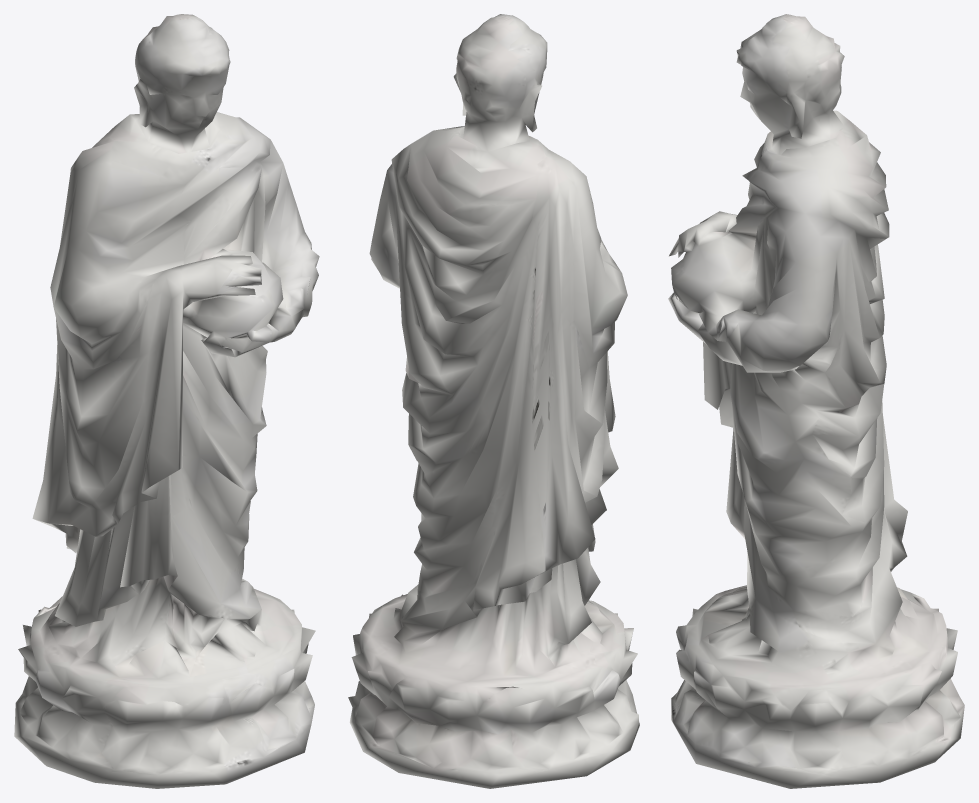
The model's file is far.glb.
The picture shows the model from 3 angles, left to right: view 1: azimuth 30°, elevation 25°; view 2: azimuth 150°, elevation 25°; view 3: azimuth 270°, elevation 25°; orthographic projection. The views are drawn at different scales.
Visible parts, largest first — view 1: owner-collection20-20; view 2: owner-collection20-20; view 3: owner-collection20-20.
Boxes of the visible parts, left/top/right/bottom form: owner-collection20-20: left=14, top=14, right=319, bottom=788; owner-collection20-20: left=348, top=14, right=639, bottom=788; owner-collection20-20: left=668, top=14, right=964, bottom=788.
Size of the model in its own units: 0.3846 by 0.9988 by 0.3783.
1 material, 1 textured.
